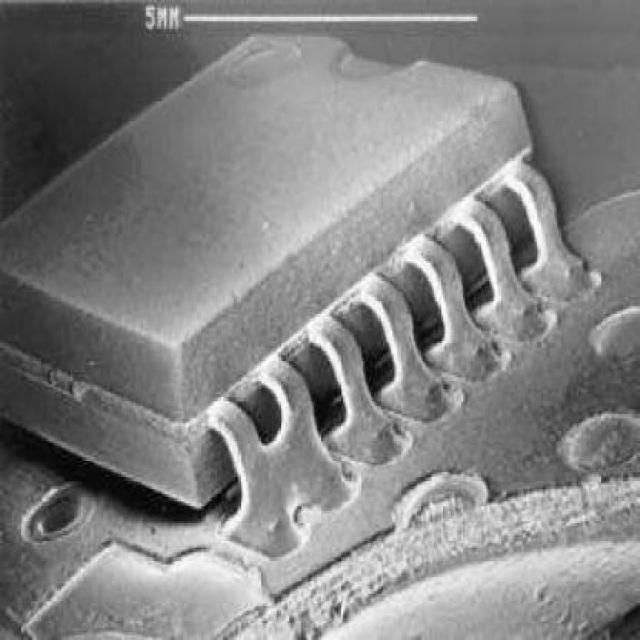Soldering shorted: (204, 341, 338, 554)
